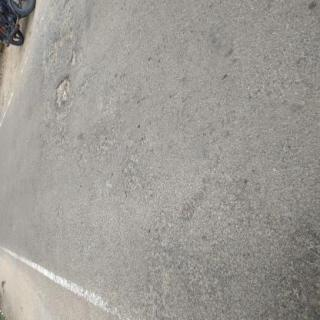pothole: (55, 75, 72, 109), (71, 52, 76, 65)
